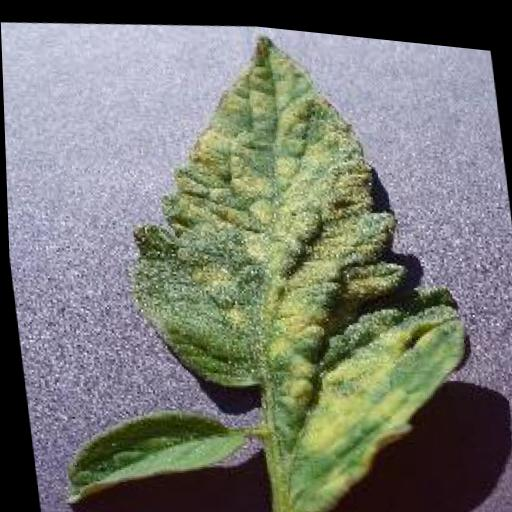Healthy: (47, 388, 248, 512)
Leaf Mold: (103, 8, 487, 512)
